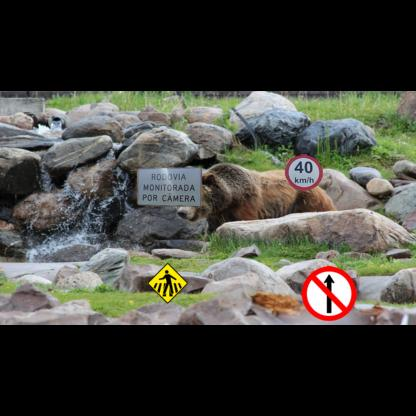A-32b: (147, 263, 188, 304)
I-E: (137, 167, 202, 207)
R-19: (285, 154, 323, 191)
R-3: (301, 266, 357, 321)
